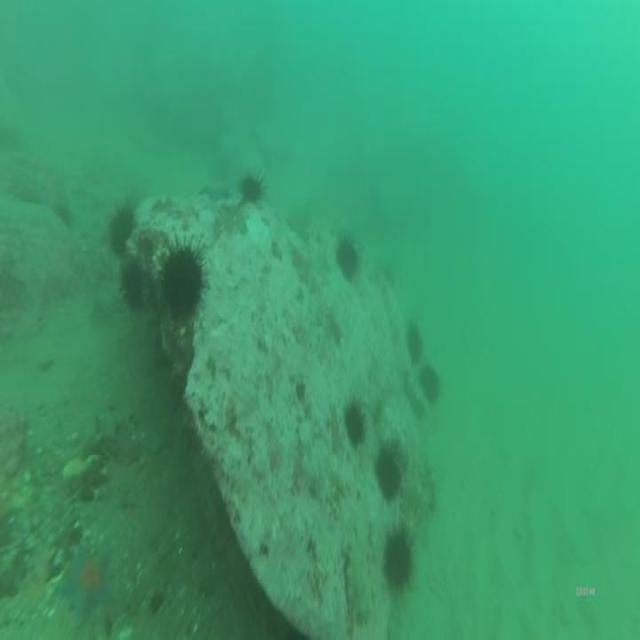echinus: (160, 251, 203, 318), (384, 532, 412, 590), (375, 452, 402, 501), (122, 272, 148, 313), (107, 215, 133, 256), (335, 234, 358, 278), (345, 404, 366, 446), (423, 367, 442, 406), (407, 327, 422, 362), (243, 177, 263, 201)
starfish: (55, 552, 114, 614)
